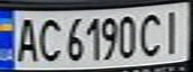0: (118, 12, 139, 61)
1: (81, 14, 103, 62)
6: (63, 15, 84, 62)
9: (100, 14, 121, 61)
A: (9, 15, 42, 63)
C: (136, 10, 166, 58), (36, 15, 63, 63)
I: (157, 7, 190, 56)
